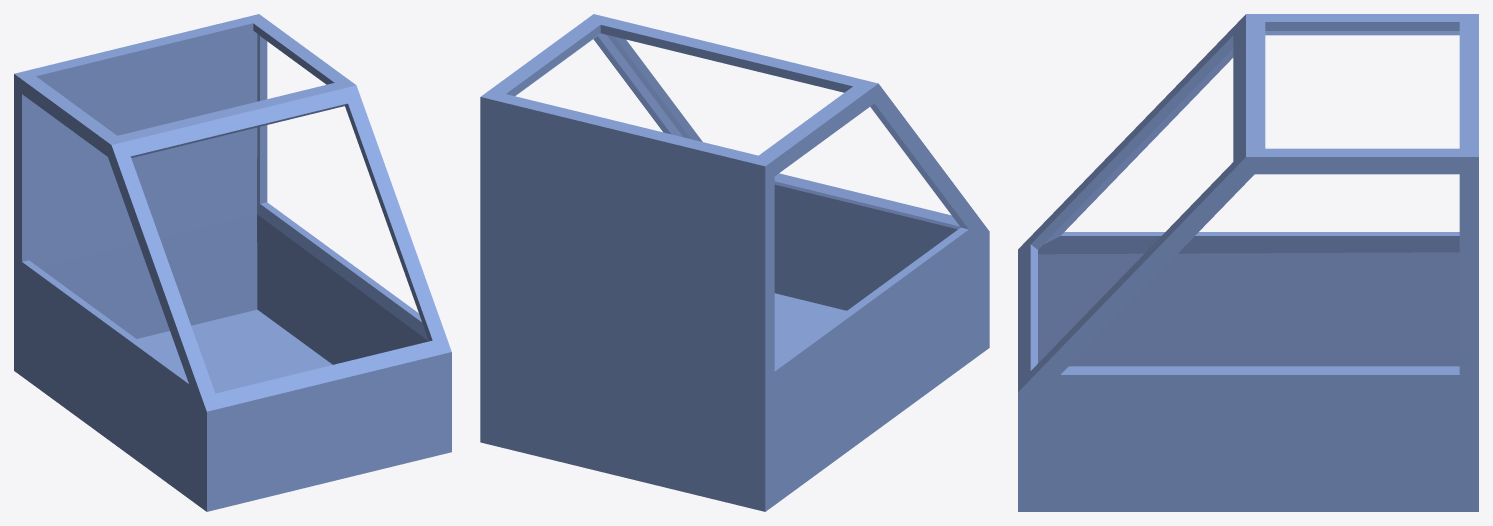
Rendered from cockpit.gltf.
The picture shows the model from 3 angles, left to right: view 1: azimuth 30°, elevation 25°; view 2: azimuth 150°, elevation 25°; view 3: azimuth 270°, elevation 25°; orthographic projection. The views are drawn at different scales.
Visible parts, largest first — view 1: cockpit; view 2: cockpit; view 3: cockpit.
Part boxes in pixels (bbox=[...]): cockpit: bbox=[14, 14, 451, 511]; cockpit: bbox=[480, 14, 989, 511]; cockpit: bbox=[1018, 14, 1478, 511].
Bounding box in the file's own units: 1.47 × 1.7 × 2.
